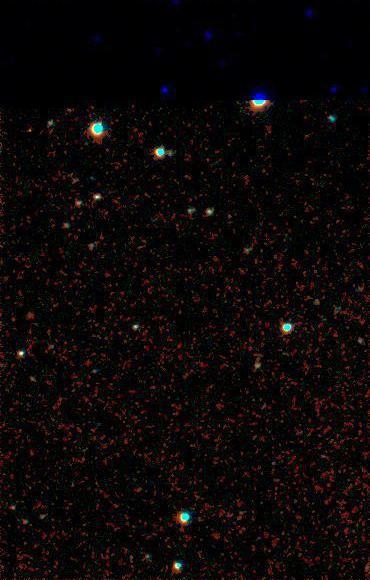star: (59, 93, 89, 123)
